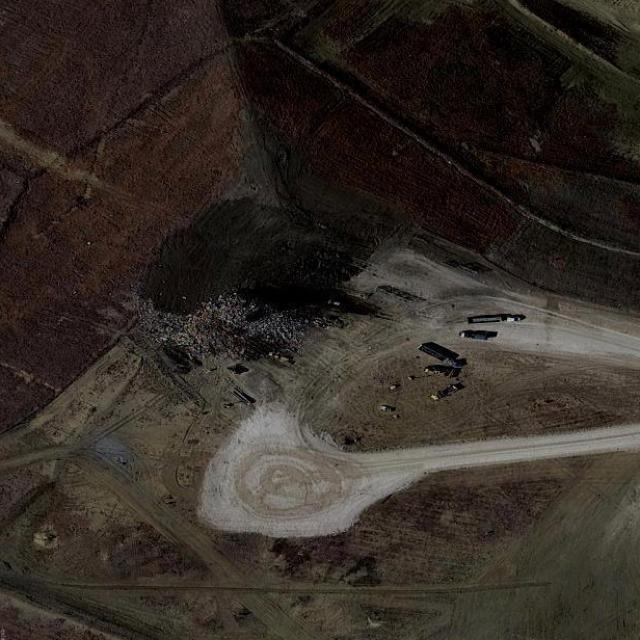dump_site: (131, 268, 324, 385)
